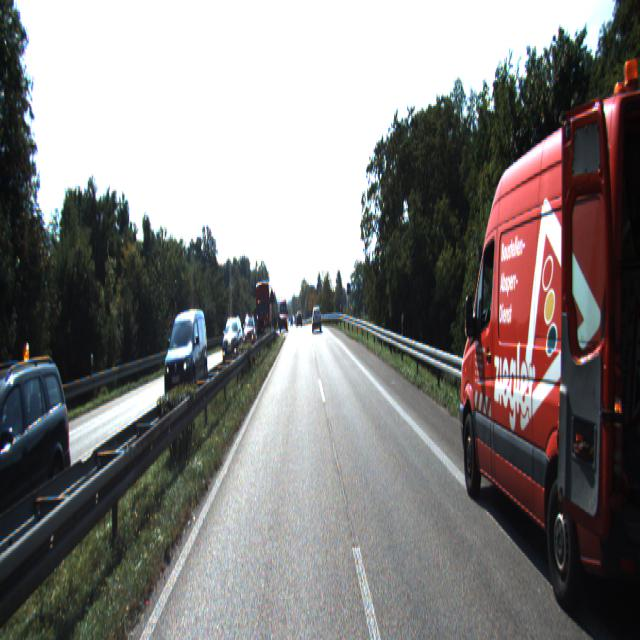Car: (451, 72, 639, 638), (0, 354, 76, 568), (163, 311, 210, 399), (254, 280, 272, 340), (222, 316, 244, 365), (242, 314, 256, 352), (312, 309, 322, 333)
